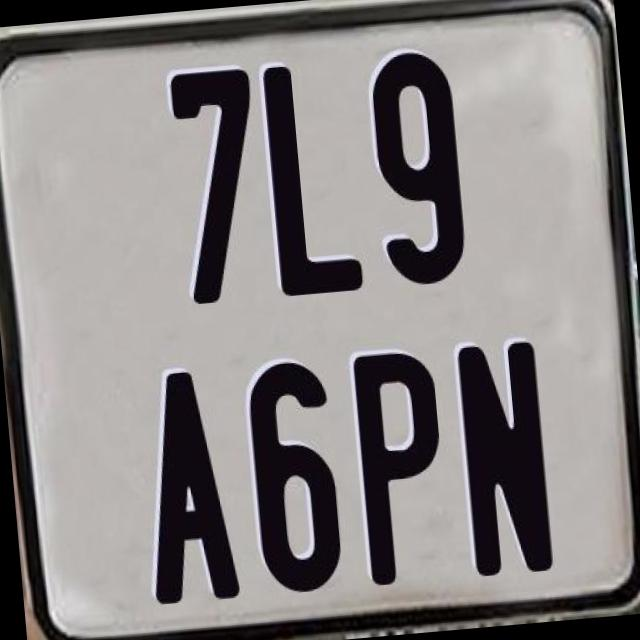6: (240, 356, 344, 596)
7: (168, 62, 277, 309)
9: (367, 46, 468, 293)
A: (136, 364, 248, 606)
L: (259, 61, 369, 304)
N: (456, 336, 554, 574)
P: (352, 348, 456, 594)
